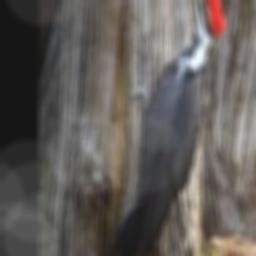Woodpecker: (102, 0, 226, 256)
